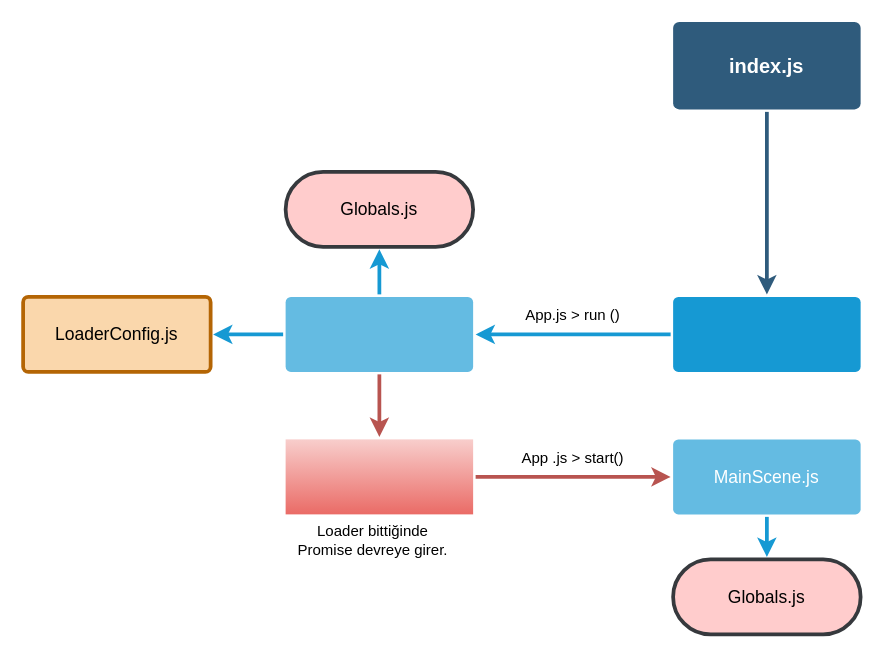
This 884x658 diagram has some shape labels left out. The shapes that lost their labels are listed below. From the top down, each one's centre as x and y in pixels, then its label:
point (378, 333): Loader.js
point (766, 333): App.js
point (378, 476): Promise => Start()
